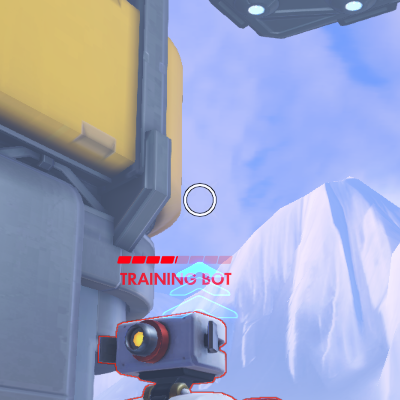hpbar: (117, 256, 232, 264)
